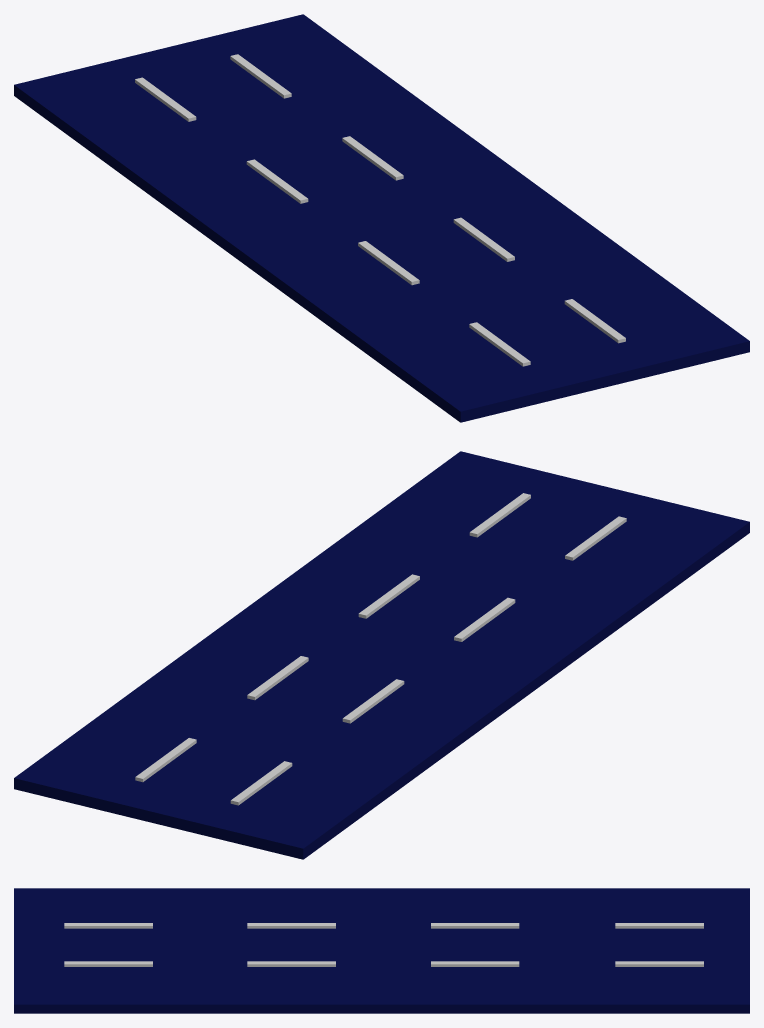
Rendered from new_platform.fbx.
3 views of the same model, one above another, from view 1: azimuth 30°, elevation 25°; view 2: azimuth 150°, elevation 25°; view 3: azimuth 270°, elevation 25° (orthographic). The views are drawn at different scales.
Parts seen in each view (by area): view 1: Cube, Cube.007, Cube.002; view 2: Cube, Cube.007, Cube.002; view 3: Cube, Cube.002, Cube.007.
Part boxes in pixels (x1,y1,x2,y2): Cube: (14,14,749,422); Cube.007: (135,77,530,366); Cube.002: (230,54,625,343); Cube: (14,451,749,859); Cube.007: (230,516,626,805); Cube.002: (135,493,530,782); Cube: (14,888,749,1013); Cube.002: (64,961,703,966); Cube.007: (64,923,703,928).
Bounding box in the file's own units: 598 × 38.6 × 1598.
